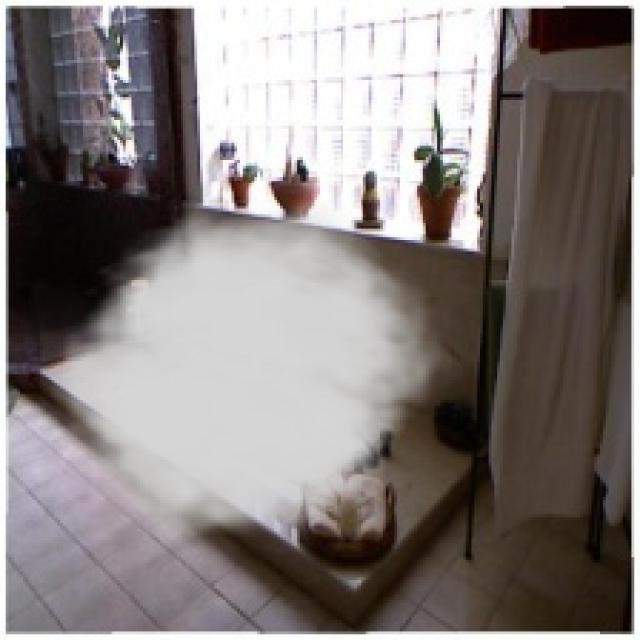smoke: (40, 200, 451, 554)
